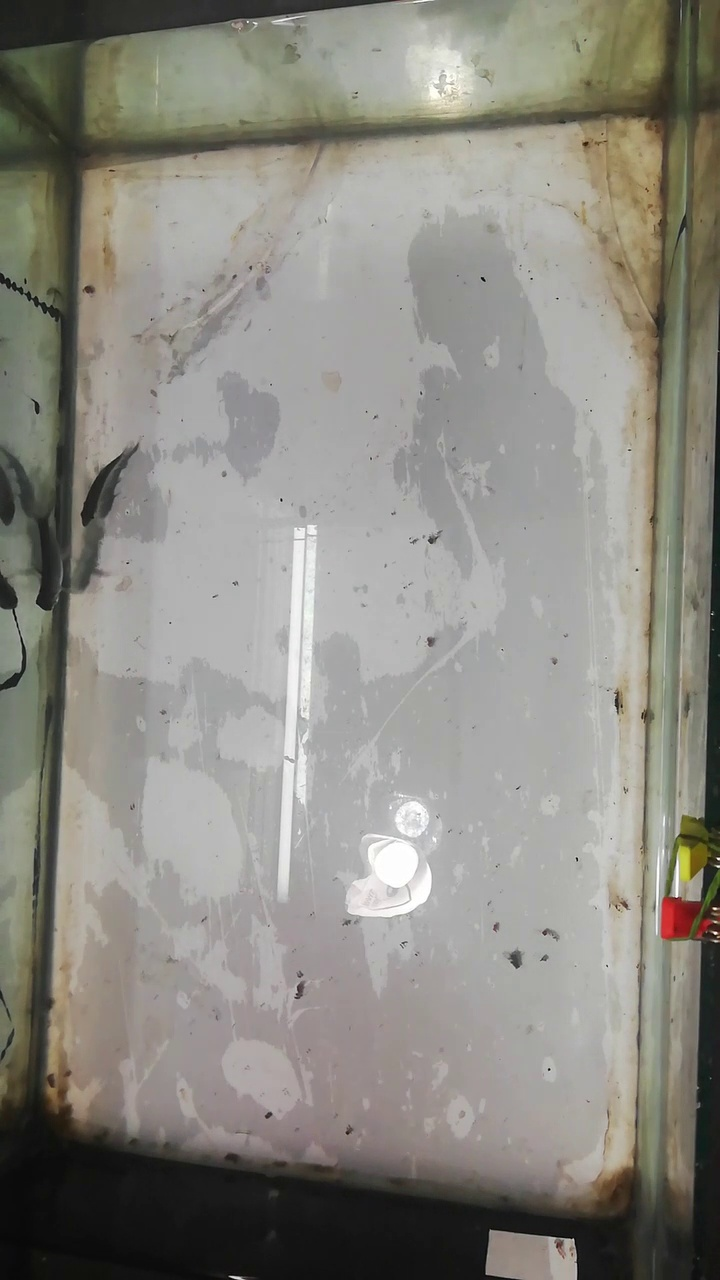fish1: (27, 507, 64, 610)
fish2: (79, 448, 124, 525)
